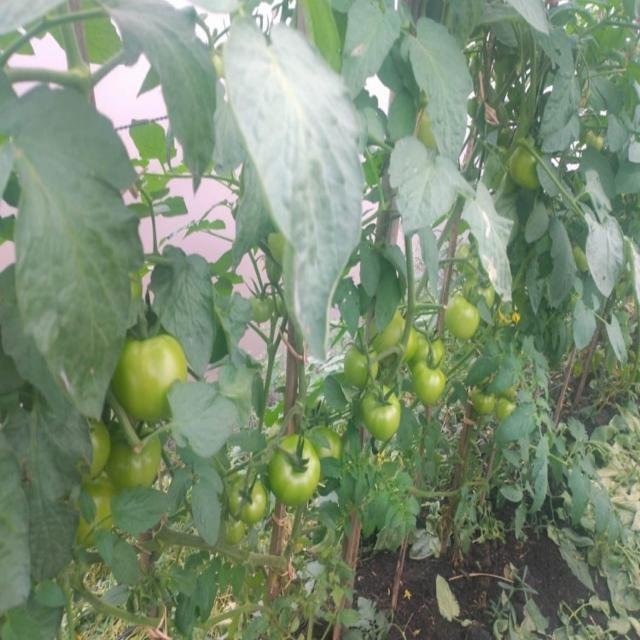tomato: (115, 333, 191, 421), (269, 437, 324, 507), (370, 303, 415, 374), (355, 387, 408, 447), (105, 430, 160, 487), (443, 299, 490, 343), (230, 474, 272, 523), (509, 135, 546, 189), (81, 487, 120, 538), (84, 420, 111, 479), (334, 344, 371, 386), (414, 360, 445, 403), (415, 332, 449, 367), (469, 384, 495, 425), (217, 517, 249, 545), (249, 286, 277, 318), (497, 394, 521, 424)
